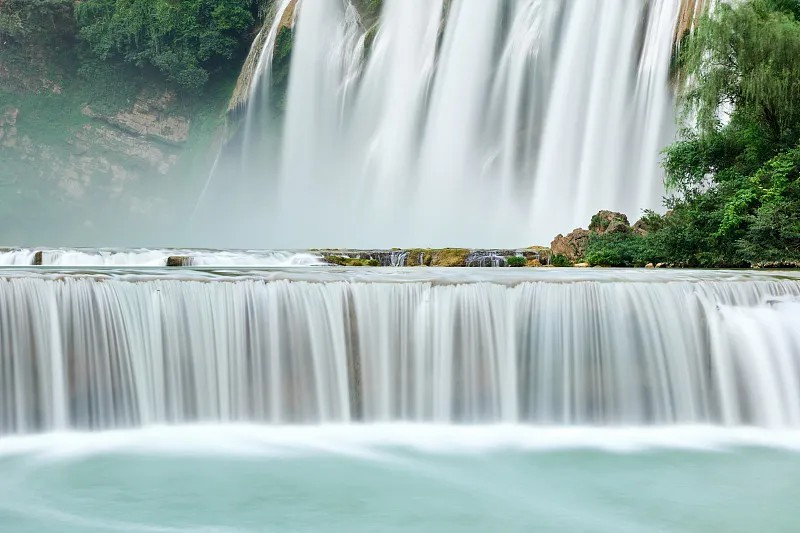Huangguoshu: (235, 1, 678, 248)
